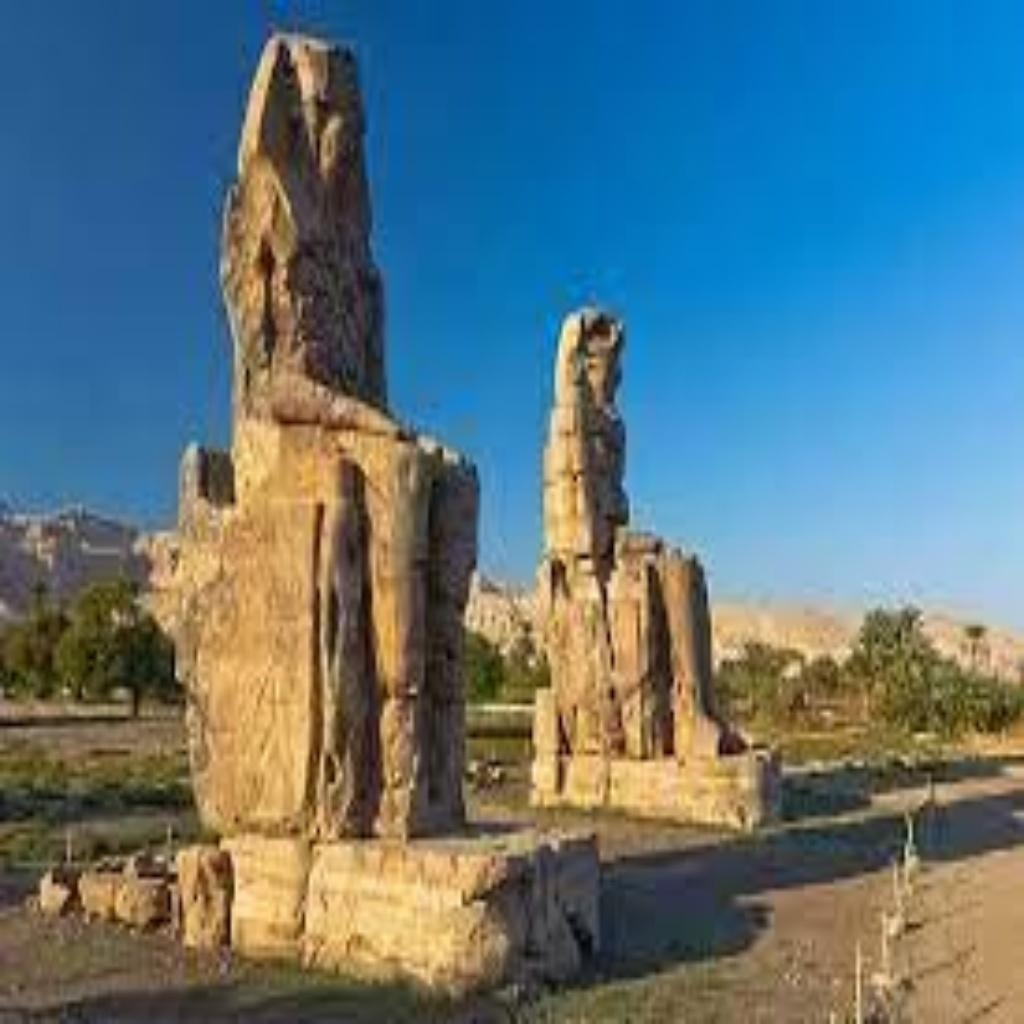Colossoi of Memnon: (142, 17, 488, 845), (530, 296, 768, 809)
